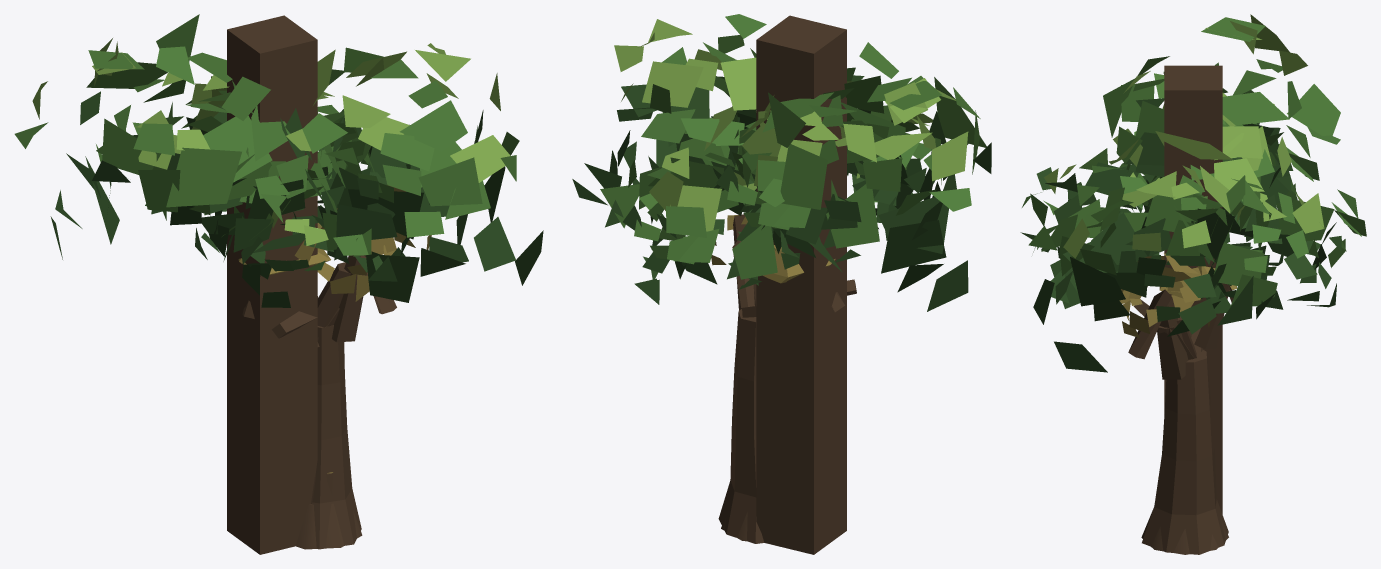
The model's file is tree_broadleaf.glb.
3 views of the same model, side by side, from view 1: azimuth 30°, elevation 25°; view 2: azimuth 150°, elevation 25°; view 3: azimuth 270°, elevation 25° (orthographic). The views are drawn at different scales.
Visible parts, largest first — view 1: TreeBroadleaf_Full_LOD0, col_TreeBroadleaf, TreeBroadleaf_Half_LOD0, TreeBroadleaf_Stump_LOD0; view 2: TreeBroadleaf_Full_LOD0, col_TreeBroadleaf, TreeBroadleaf_Half_LOD0, TreeBroadleaf_Low_LOD0; view 3: TreeBroadleaf_Full_LOD0, TreeBroadleaf_Half_LOD0, col_TreeBroadleaf, TreeBroadleaf_Stump_LOD0, TreeBroadleaf_Low_LOD0.
Boxes of the visible parts, x1,y1,x2,y2 form: TreeBroadleaf_Full_LOD0: (14,14,543,549); col_TreeBroadleaf: (227,15,317,554); TreeBroadleaf_Half_LOD0: (143,76,431,341); TreeBroadleaf_Stump_LOD0: (296,472,362,549); TreeBroadleaf_Full_LOD0: (572,14,991,543); col_TreeBroadleaf: (756,15,846,554); TreeBroadleaf_Half_LOD0: (702,81,919,285); TreeBroadleaf_Low_LOD0: (763,245,835,283); TreeBroadleaf_Full_LOD0: (1020,14,1366,554); TreeBroadleaf_Half_LOD0: (1113,125,1319,358); col_TreeBroadleaf: (1164,65,1222,514); TreeBroadleaf_Stump_LOD0: (1141,477,1228,554); TreeBroadleaf_Low_LOD0: (1158,266,1236,359).
Size of what is drawn, in the model's own units: 4.35 by 5 by 3.55.
